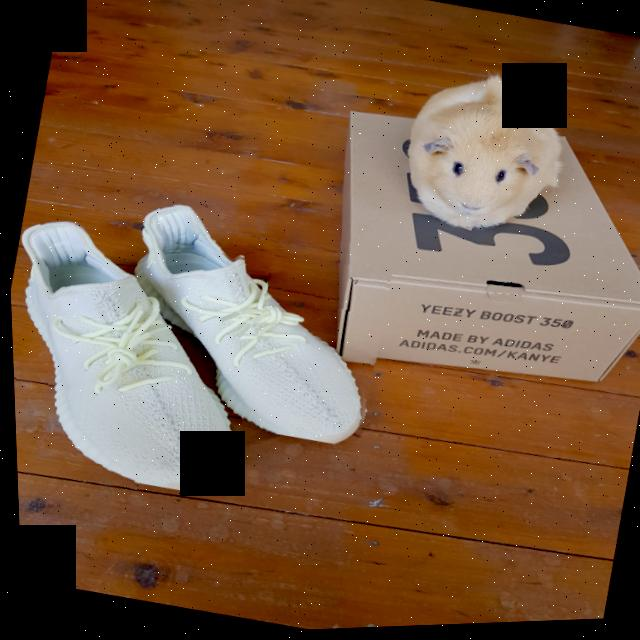shoe: (6, 204, 276, 506), (99, 193, 402, 459)
